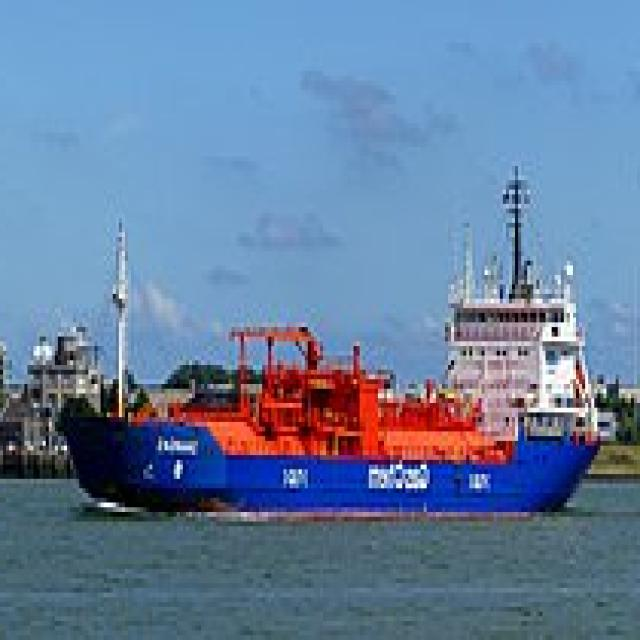Tanker: (64, 156, 603, 522)
